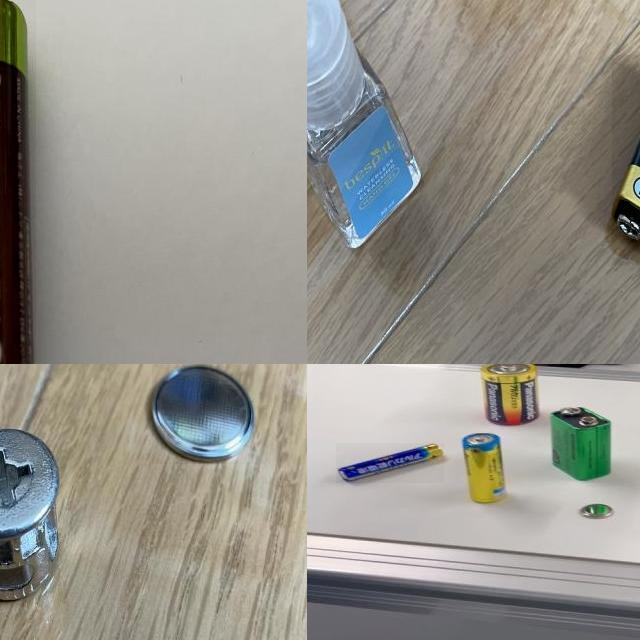9V: (612, 55, 640, 265), (549, 403, 614, 481)
